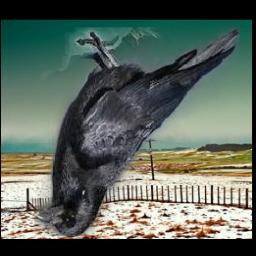Crow: (35, 27, 240, 236)
